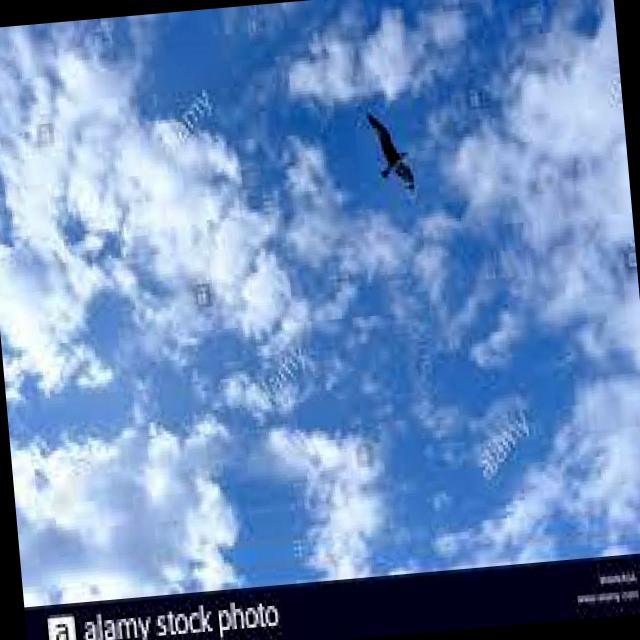bird: (364, 108, 417, 198)
